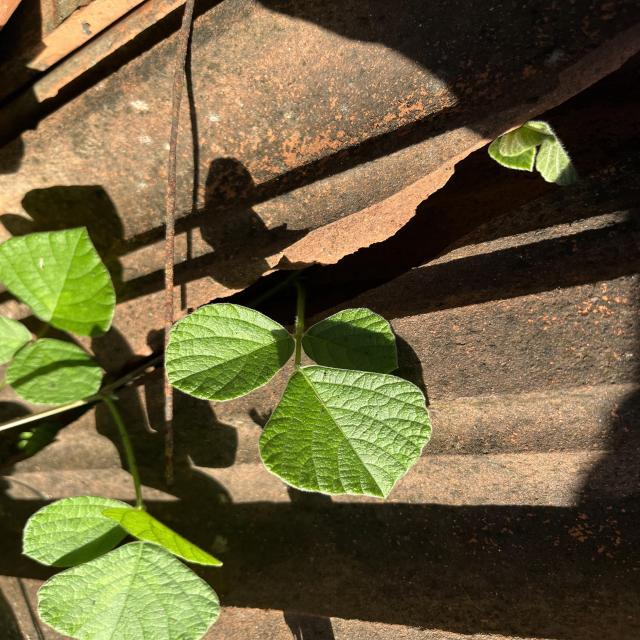Pseudarthria viscida: (162, 301, 434, 504)
